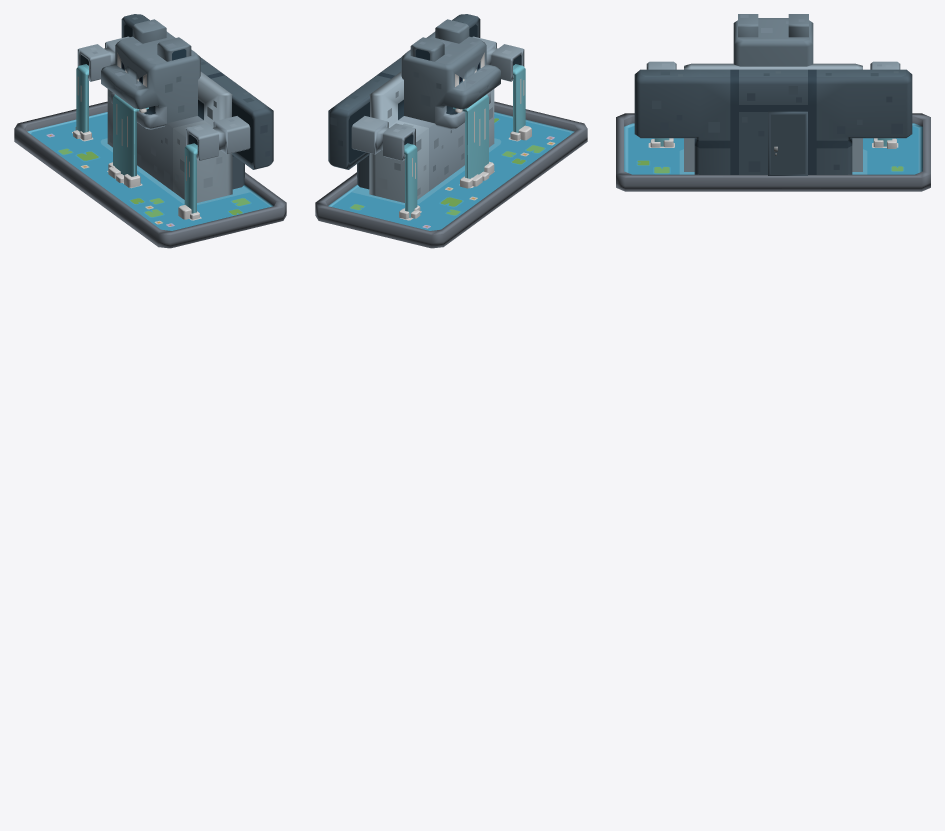
Rendered from G_makeover_L_5.fbx.
The picture shows the model from 3 angles, left to right: view 1: azimuth 30°, elevation 25°; view 2: azimuth 150°, elevation 25°; view 3: azimuth 270°, elevation 25°; orthographic projection. The views are drawn at different scales.
Visible parts, largest first — view 1: base_kamex; view 2: base_kamex; view 3: base_kamex.
Part boxes in pixels (box(x1,y1,x2,y2)): base_kamex: box(14, 14, 286, 248); base_kamex: box(315, 14, 587, 248); base_kamex: box(616, 14, 930, 191).
Size of the model in its own units: 6.3 by 36.63 by 13.
